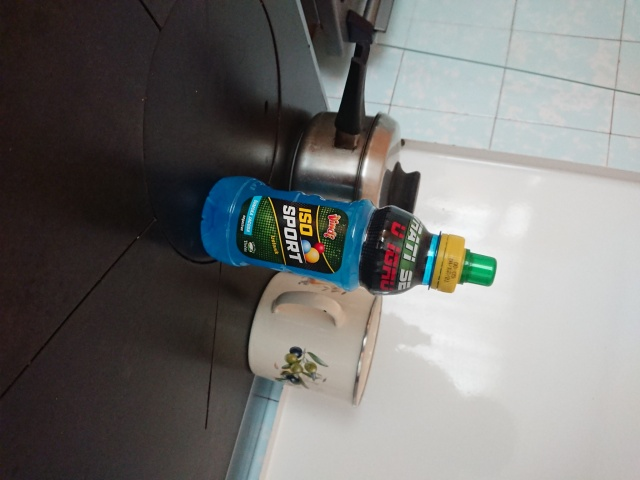Vindi Iso Sport Forest Strawberries 500mL: (198, 173, 498, 296)
